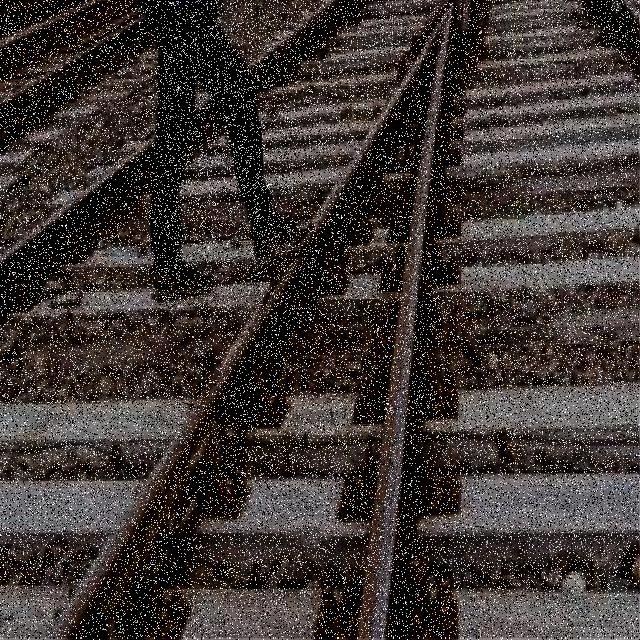rail: (1, 1, 640, 639)
